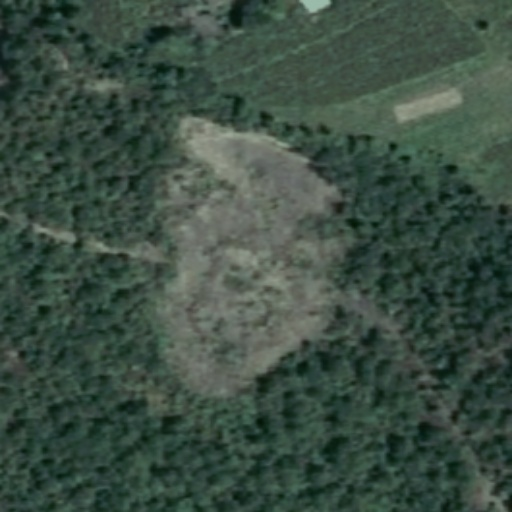landslide: (172, 113, 345, 392)
